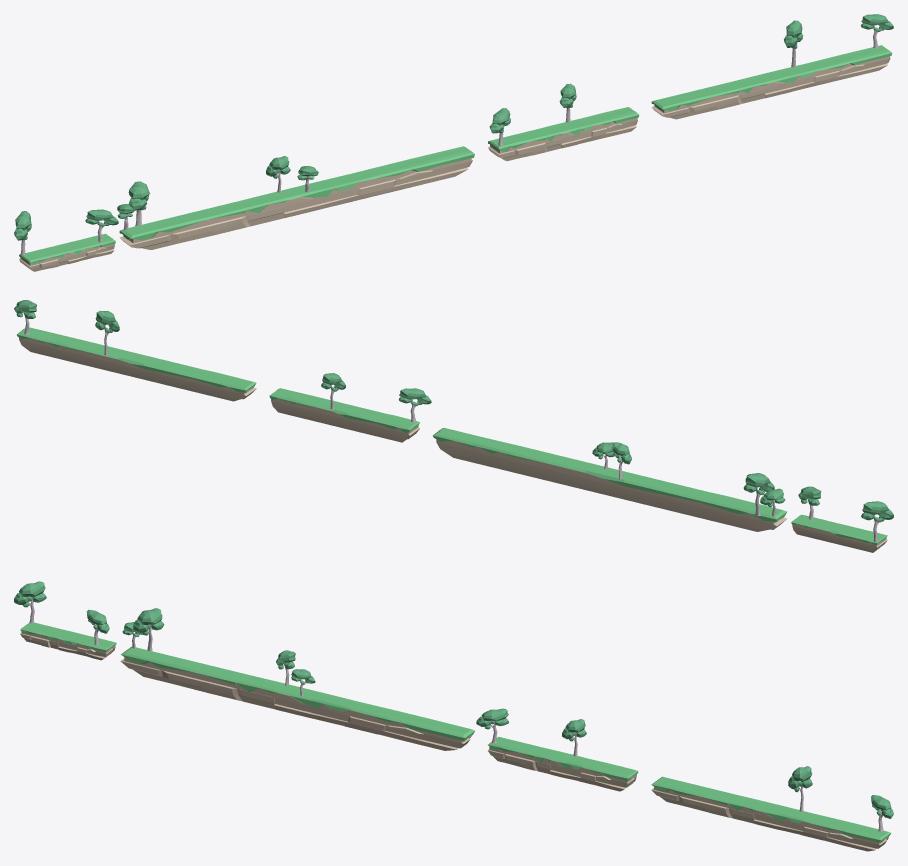
File: Level3.fbx
The picture shows the model from 3 angles, top to bottom: view 1: azimuth 30°, elevation 25°; view 2: azimuth 150°, elevation 25°; view 3: azimuth 330°, elevation 25°; orthographic projection.
Parts seen in each view (by area): view 1: polySurface393; view 2: polySurface393; view 3: polySurface393.
Boxes of the visible parts, bbox=[...] form: polySurface393: bbox=[14, 14, 893, 271]; polySurface393: bbox=[14, 300, 893, 552]; polySurface393: bbox=[14, 581, 893, 851].
Bounding box in the file's own units: 351 × 23.82 × 13.83.
